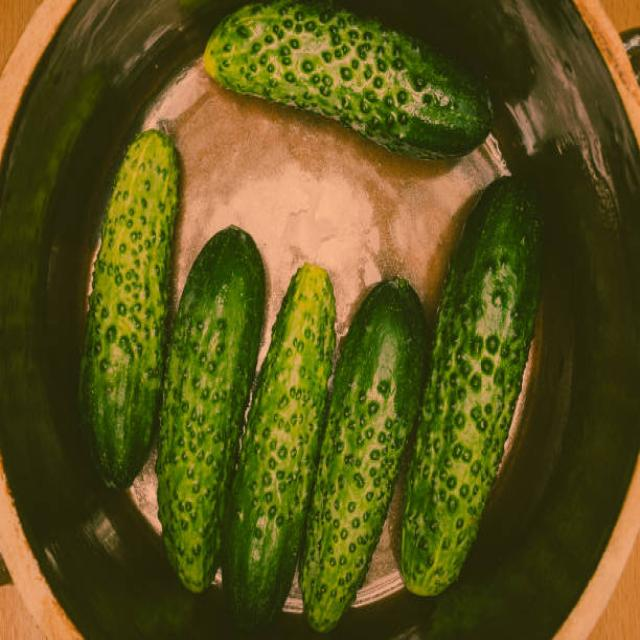cucumber: (400, 173, 550, 596), (297, 275, 431, 640), (204, 0, 492, 163), (220, 261, 338, 640), (155, 229, 267, 595), (76, 131, 178, 486)
